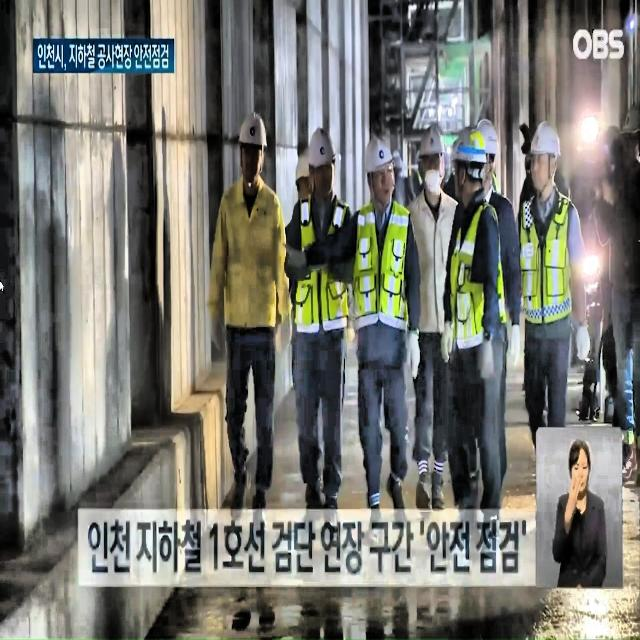safety_helmet: (414, 118, 466, 190), (516, 114, 579, 164), (230, 108, 279, 166), (450, 109, 502, 160), (357, 129, 403, 181), (296, 120, 338, 172)
safety_jacket: (510, 190, 602, 334), (340, 186, 415, 360), (285, 194, 354, 356), (433, 204, 507, 350)
